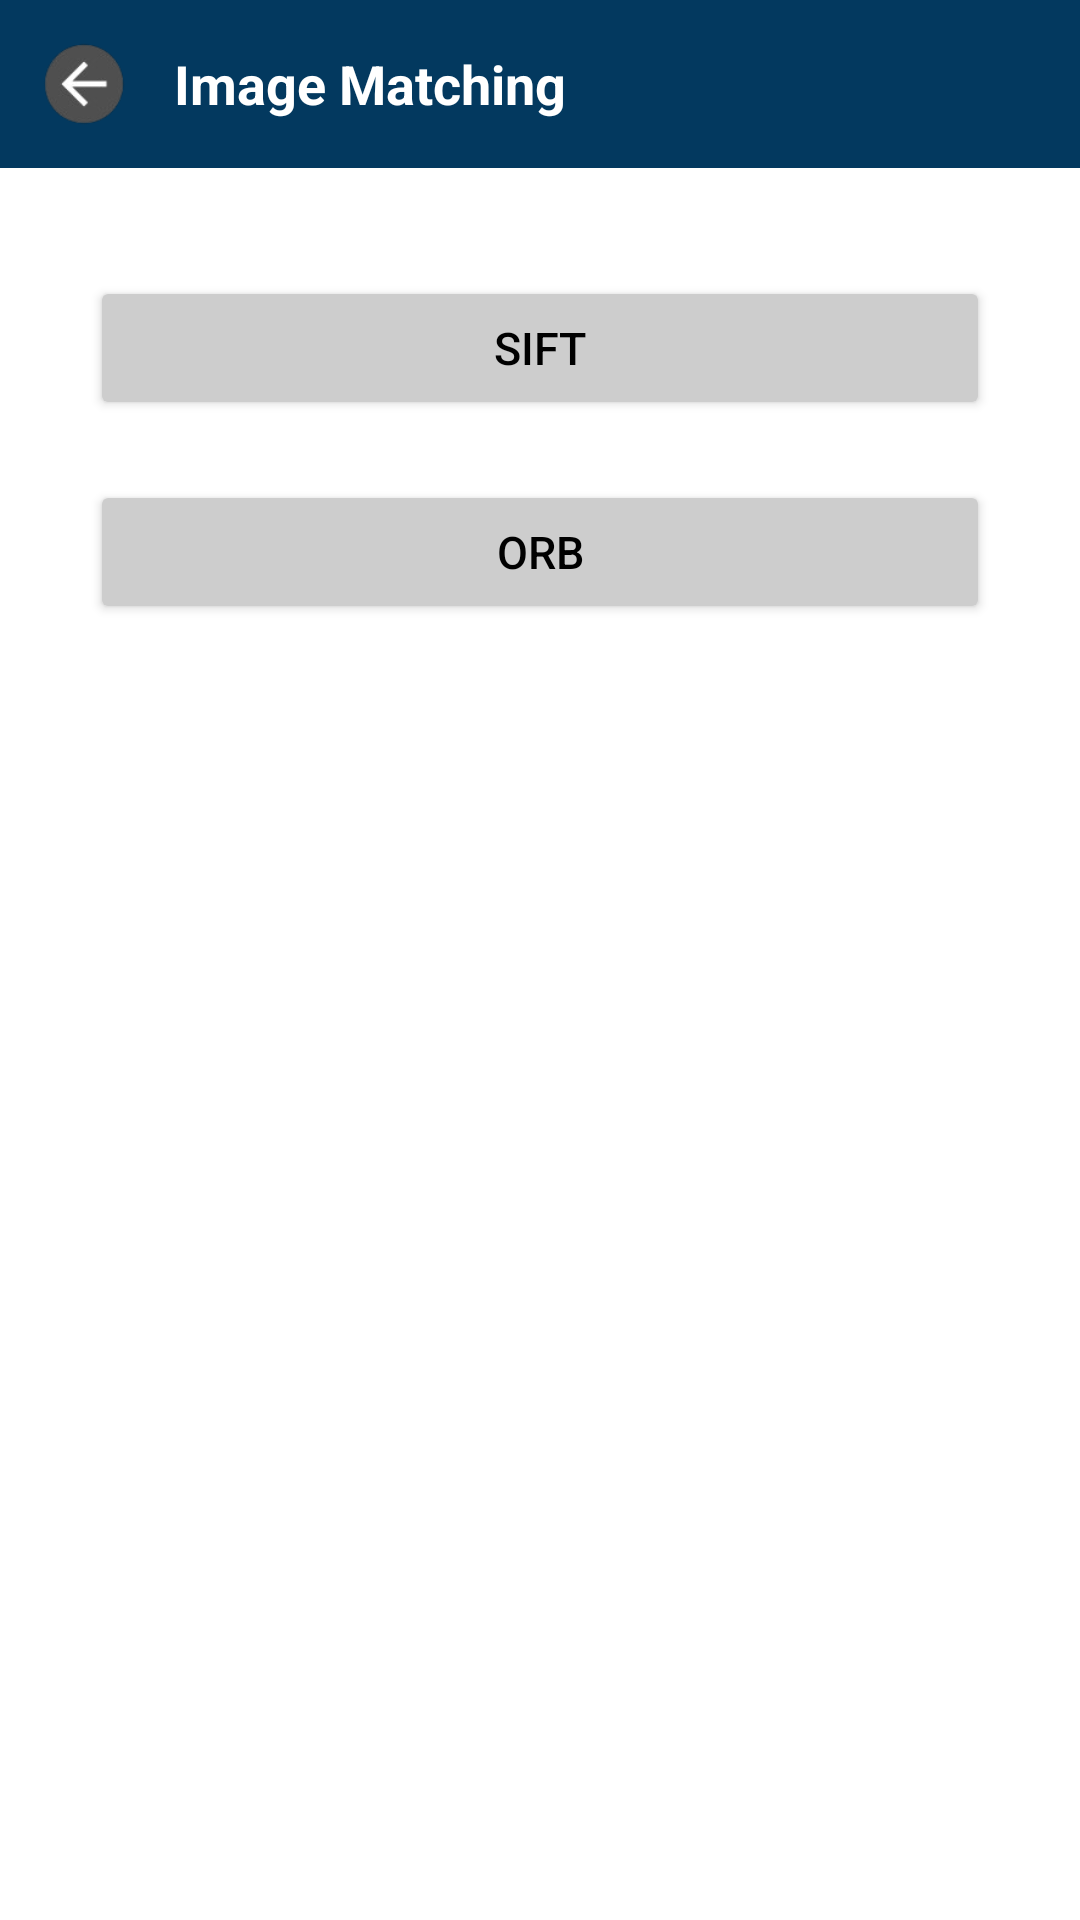

Point at icon controls on the screen. Image size 1080px×1920px, points as point (x, y).
Back: point (84, 84)
